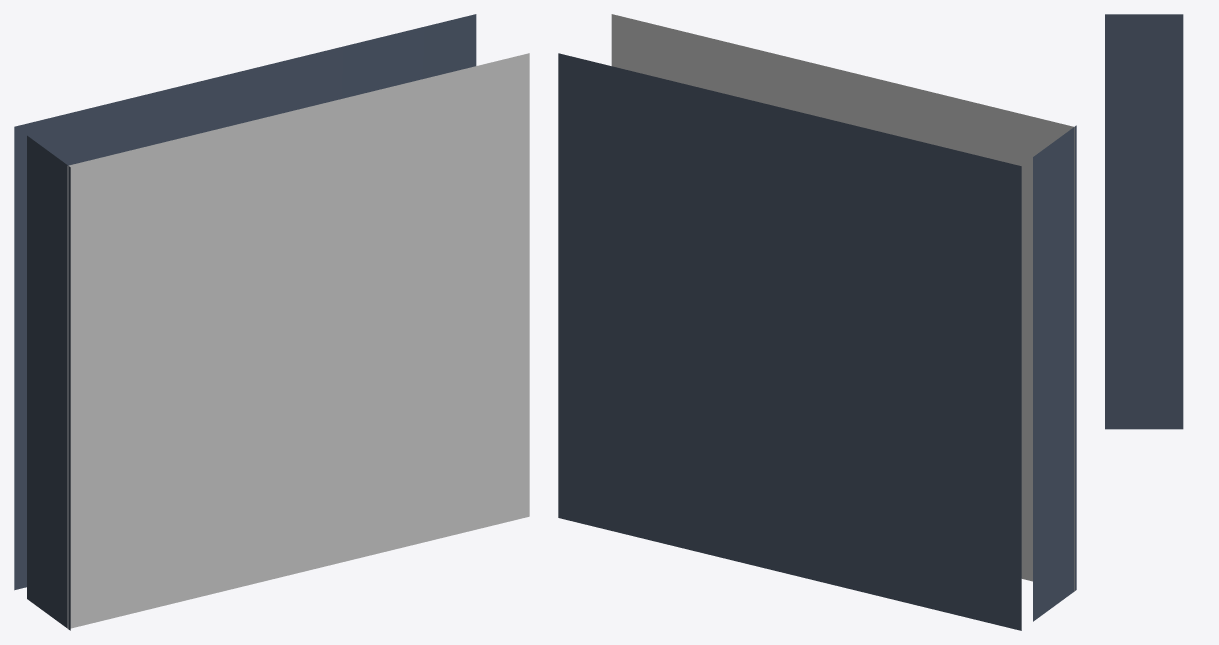
3 renders of one model, left to right at view 1: azimuth 30°, elevation 25°; view 2: azimuth 150°, elevation 25°; view 3: azimuth 270°, elevation 25°, orthographic. The views are drawn at different scales.
Visible parts, largest first — view 1: A69F40E348836FC9B2860CB0EF4CC43B; view 2: A69F40E348836FC9B2860CB0EF4CC43B; view 3: A69F40E348836FC9B2860CB0EF4CC43B.
Part boxes in pixels (<box>): A69F40E348836FC9B2860CB0EF4CC43B: <box>14,14,529,630</box>; A69F40E348836FC9B2860CB0EF4CC43B: <box>558,14,1076,630</box>; A69F40E348836FC9B2860CB0EF4CC43B: <box>1105,14,1183,429</box>.
Bounding box in the file's own units: 8.28 × 39.6 × 37.95.
